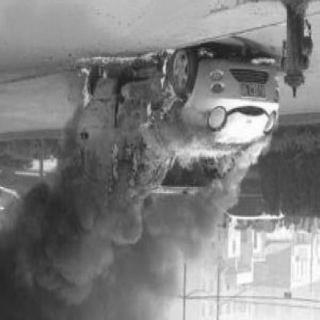Fire: (62, 48, 276, 224)
Smoke: (9, 208, 169, 318)
